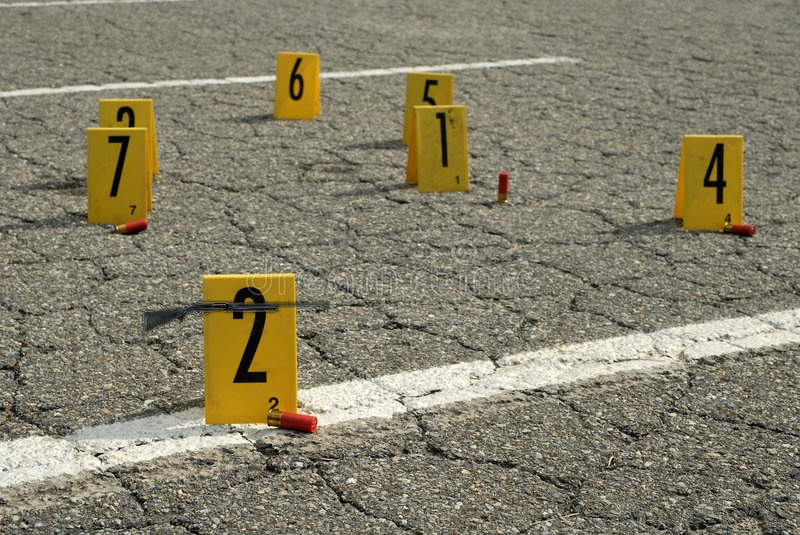escopeta.png: (141, 300, 338, 340)
